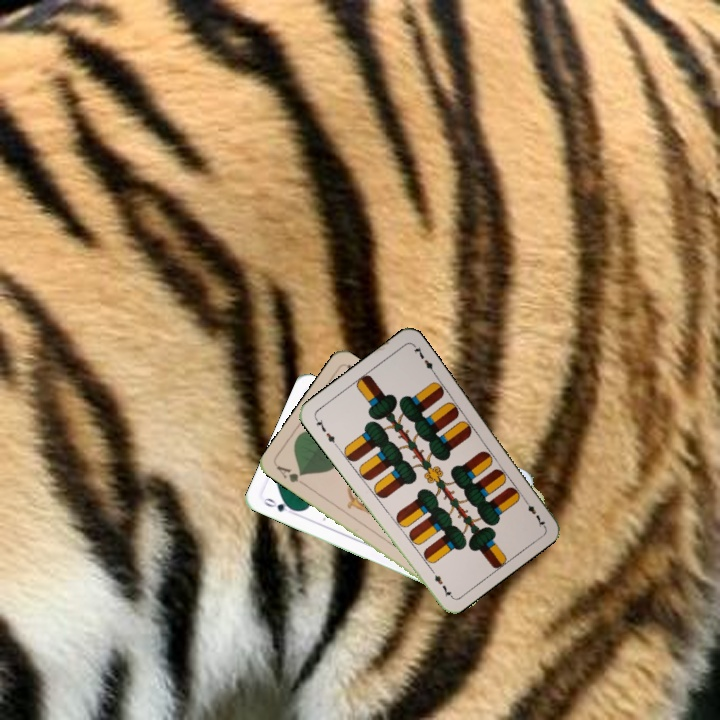E7: (519, 493, 548, 529), (311, 414, 340, 449)
GA: (272, 461, 309, 488)
GO: (260, 494, 299, 518)
